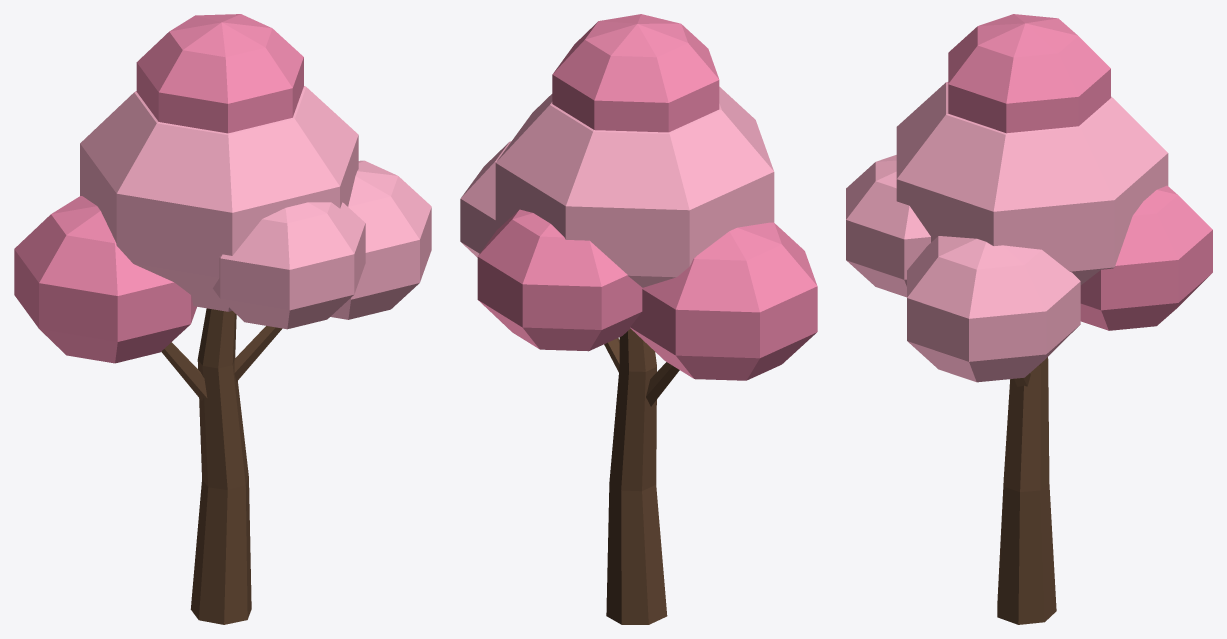
Rendered from p_tree.glb.
3 views of the same model, side by side, from view 1: azimuth 30°, elevation 25°; view 2: azimuth 150°, elevation 25°; view 3: azimuth 270°, elevation 25° (orthographic).
Visible parts, largest first — view 1: tree; view 2: tree; view 3: tree.
Boxes of the visible parts, box(x1,y1,x2,y2) form: tree: box(14, 14, 431, 624); tree: box(460, 14, 817, 624); tree: box(846, 14, 1212, 624).
Bounding box in the file's own units: 3.48 × 5.41 × 3.05.
